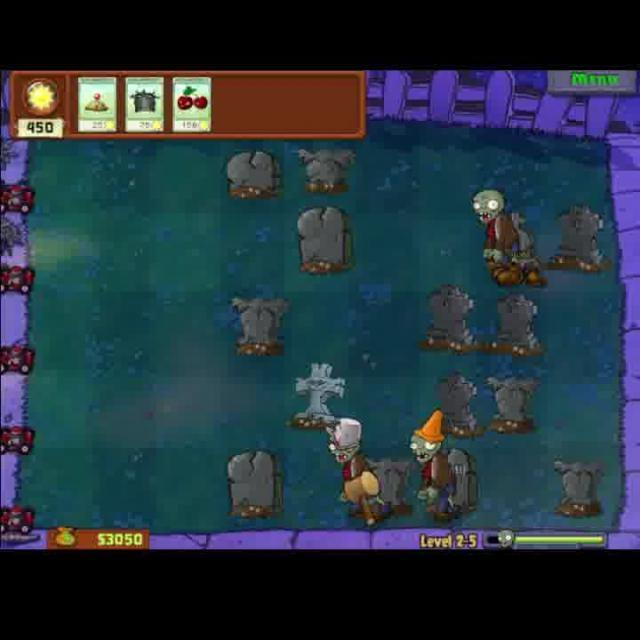zombies: (317, 410, 383, 530), (404, 406, 462, 526), (466, 184, 530, 291)
